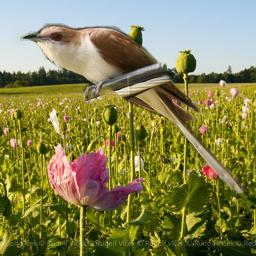Cuckoo: (20, 23, 248, 198)
